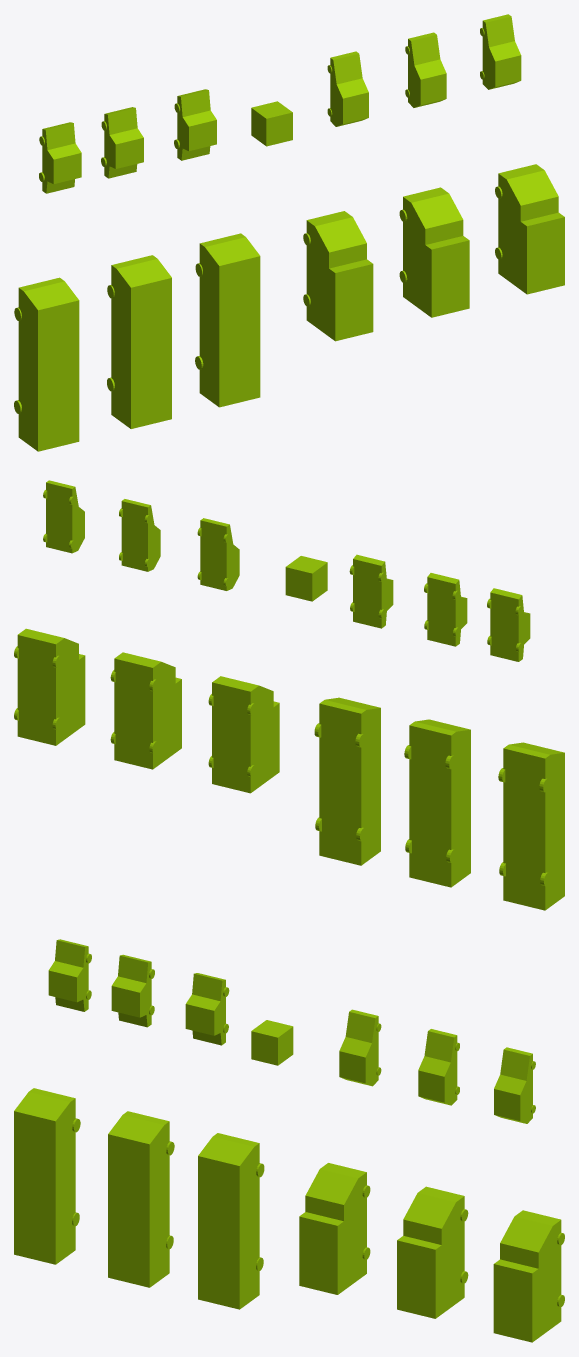
File: world.obj
The picture shows the model from 3 angles, top to bottom: view 1: azimuth 30°, elevation 25°; view 2: azimuth 150°, elevation 25°; view 3: azimuth 330°, elevation 25°; orthographic projection.
Parts seen in each view (by area): view 1: Car_11_Car_11, Car_12_Car_12, Car_10_Car_10, Car_09_Car_09, Car_08_Car_08, Car_07_Car_07, CAR_01_CAR_01, CAR_03_CAR_03, CAR_02_CAR_02, Car_06_Car_06, Car_05_Car_05, Car_04_Car_04 (+1 smaller); view 2: Car_10_Car_10, Car_11_Car_11, Car_12_Car_12, Car_07_Car_07, Car_08_Car_08, Car_09_Car_09, Car_04_Car_04, Car_06_Car_06, Car_05_Car_05, CAR_02_CAR_02, CAR_03_CAR_03, CAR_01_CAR_01 (+1 smaller); view 3: Car_10_Car_10, Car_12_Car_12, Car_11_Car_11, Car_07_Car_07, Car_09_Car_09, Car_08_Car_08, CAR_03_CAR_03, CAR_02_CAR_02, CAR_01_CAR_01, Car_04_Car_04, Car_05_Car_05, Car_06_Car_06 (+1 smaller).
Boxes of the visible parts, left/top/right/bottom form: Car_11_Car_11: left=195, top=233, right=260, bottom=407; Car_12_Car_12: left=14, top=277, right=79, bottom=451; Car_10_Car_10: left=107, top=255, right=171, bottom=428; Car_09_Car_09: left=303, top=211, right=373, bottom=341; Car_08_Car_08: left=399, top=187, right=469, bottom=317; Car_07_Car_07: left=495, top=164, right=564, bottom=294; CAR_01_CAR_01: left=480, top=14, right=521, bottom=89; CAR_03_CAR_03: left=327, top=51, right=368, bottom=126; CAR_02_CAR_02: left=405, top=32, right=446, bottom=107; Car_06_Car_06: left=101, top=107, right=143, bottom=178; Car_05_Car_05: left=174, top=89, right=216, bottom=160; Car_04_Car_04: left=39, top=122, right=81, bottom=193; Car_10_Car_10: left=404, top=719, right=470, bottom=887; Car_11_Car_11: left=314, top=697, right=380, bottom=865; Car_12_Car_12: left=498, top=742, right=564, bottom=910; Car_07_Car_07: left=14, top=628, right=85, bottom=745; Car_08_Car_08: left=110, top=652, right=181, bottom=769; Car_09_Car_09: left=208, top=676, right=279, bottom=793; Car_04_Car_04: left=487, top=588, right=530, bottom=661; Car_06_Car_06: left=424, top=573, right=467, bottom=646; Car_05_Car_05: left=349, top=554, right=393, bottom=628; CAR_02_CAR_02: left=119, top=499, right=160, bottom=571; CAR_03_CAR_03: left=197, top=518, right=239, bottom=590; CAR_01_CAR_01: left=43, top=480, right=84, bottom=553; Car_10_Car_10: left=108, top=1111, right=174, bottom=1287; Car_12_Car_12: left=14, top=1088, right=80, bottom=1264; Car_11_Car_11: left=198, top=1133, right=264, bottom=1309; Car_07_Car_07: left=493, top=1210, right=564, bottom=1342; Car_09_Car_09: left=299, top=1163, right=370, bottom=1294; Car_08_Car_08: left=397, top=1186, right=468, bottom=1318; CAR_03_CAR_03: left=339, top=1009, right=381, bottom=1086; CAR_02_CAR_02: left=418, top=1029, right=459, bottom=1105; CAR_01_CAR_01: left=494, top=1047, right=535, bottom=1123; Car_04_Car_04: left=48, top=939, right=91, bottom=1011; Car_05_Car_05: left=185, top=973, right=229, bottom=1045; Car_06_Car_06: left=111, top=954, right=154, bottom=1027.
Bounding box in the file's own units: 39.51 × 21.92 × 4.03.
